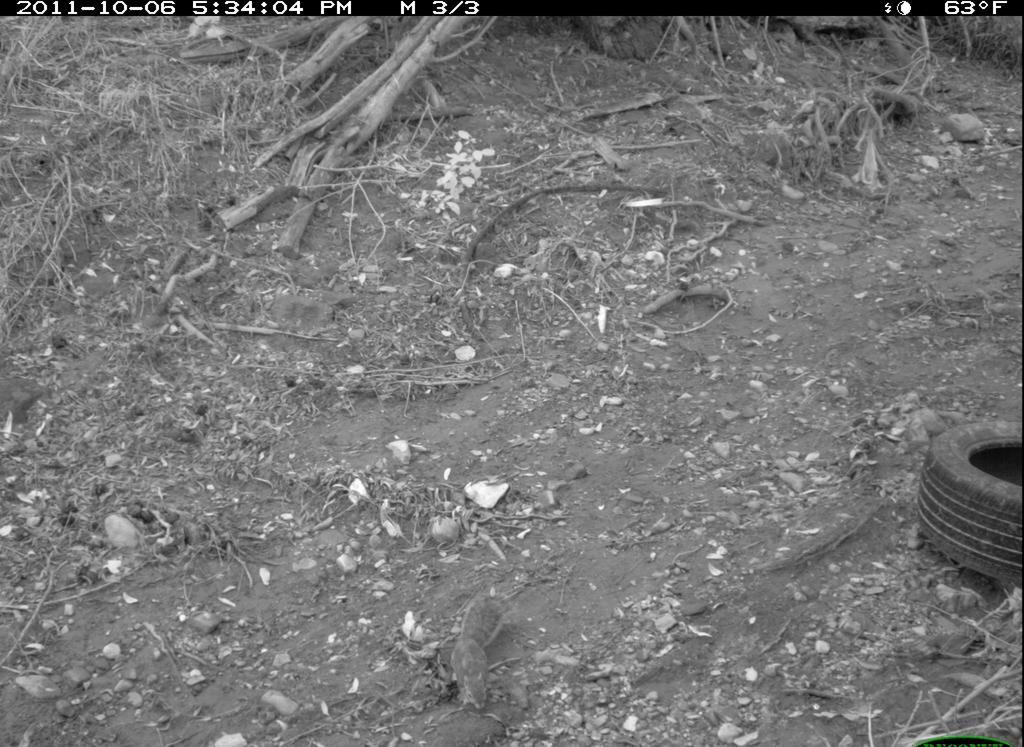squirrel: (441, 579, 528, 722)
